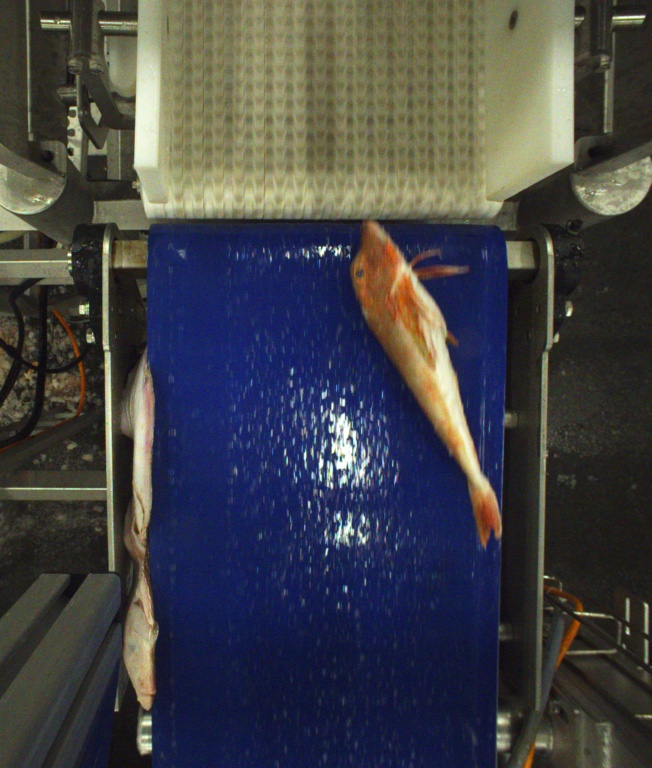GUU: (351, 216, 504, 552)
